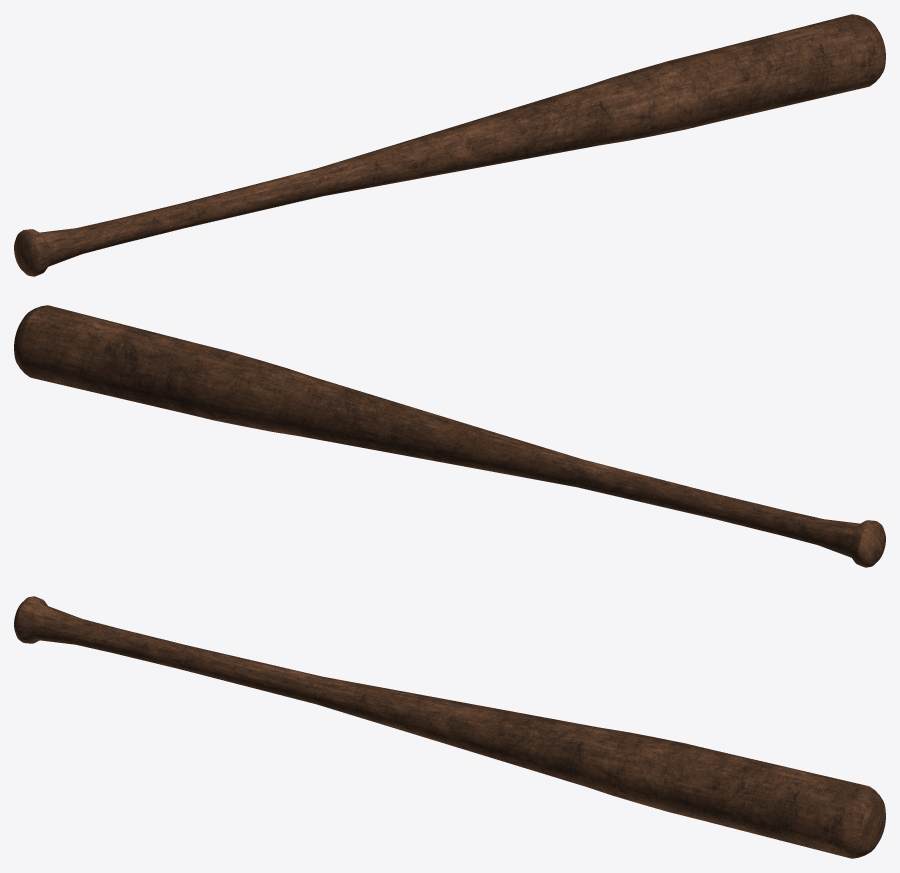
The model's file is BaseBallbat.fbx.
The picture shows the model from 3 angles, top to bottom: view 1: azimuth 30°, elevation 25°; view 2: azimuth 150°, elevation 25°; view 3: azimuth 330°, elevation 25°; orthographic projection.
Visible parts, largest first — view 1: BB_Bat; view 2: BB_Bat; view 3: BB_Bat.
Part boxes in pixels (x1=…): BB_Bat: x1=14, y1=14, x2=885, y2=276; BB_Bat: x1=14, y1=305, x2=885, y2=567; BB_Bat: x1=14, y1=596, x2=885, y2=858.
Bounding box in the file's own units: 311 × 23.48 × 23.46.
1 material, 1 textured.
